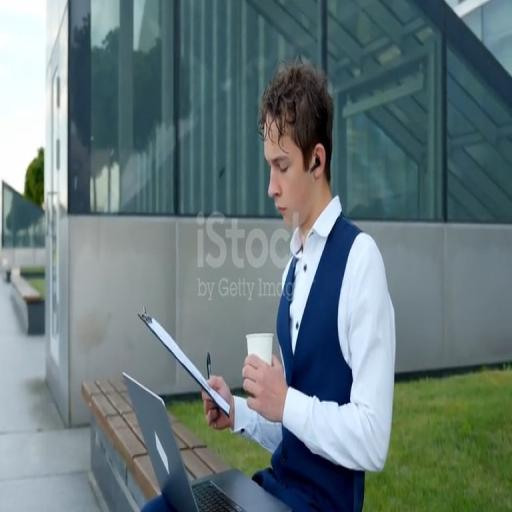earphone: (310, 147, 323, 178)
